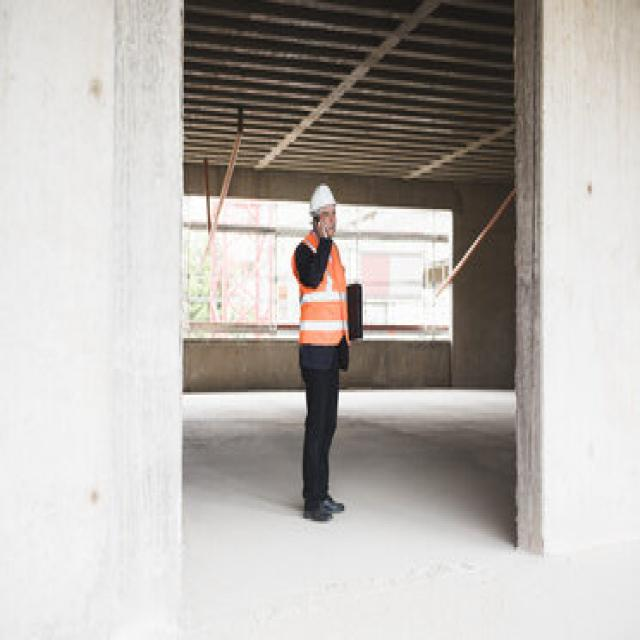helmet: (309, 185, 338, 218)
vest: (291, 227, 355, 351)
